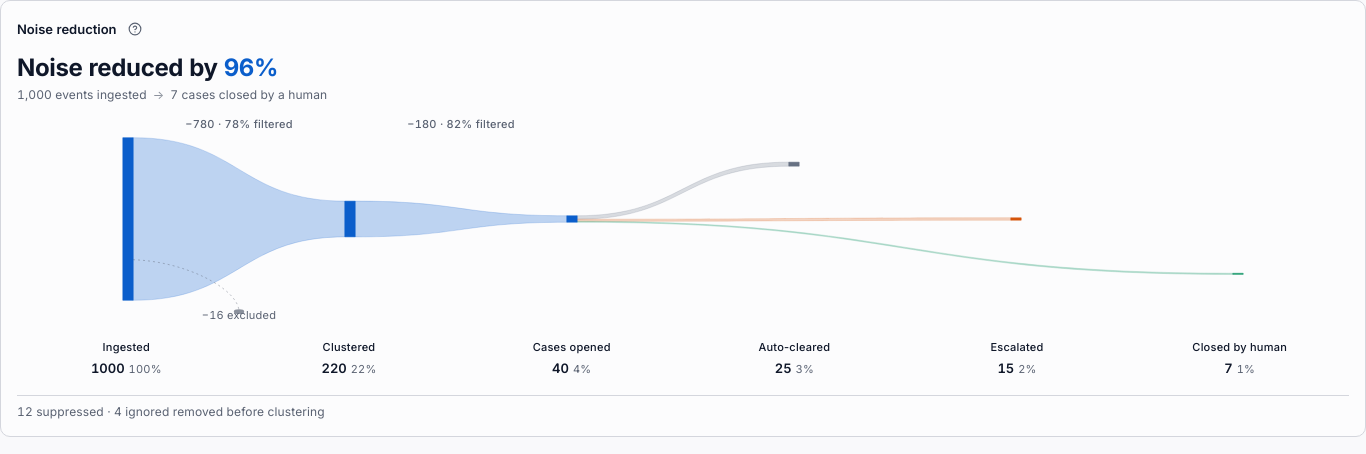
Test: NoiseFunnel › explains outcome authority and retention without mislabelling human closure as AI work
The width and height of the screenshot is (1366, 454).
Hover over the button with aria-label "Closed by human: 7 cases": (1240, 359) [1130,335,1349,383]
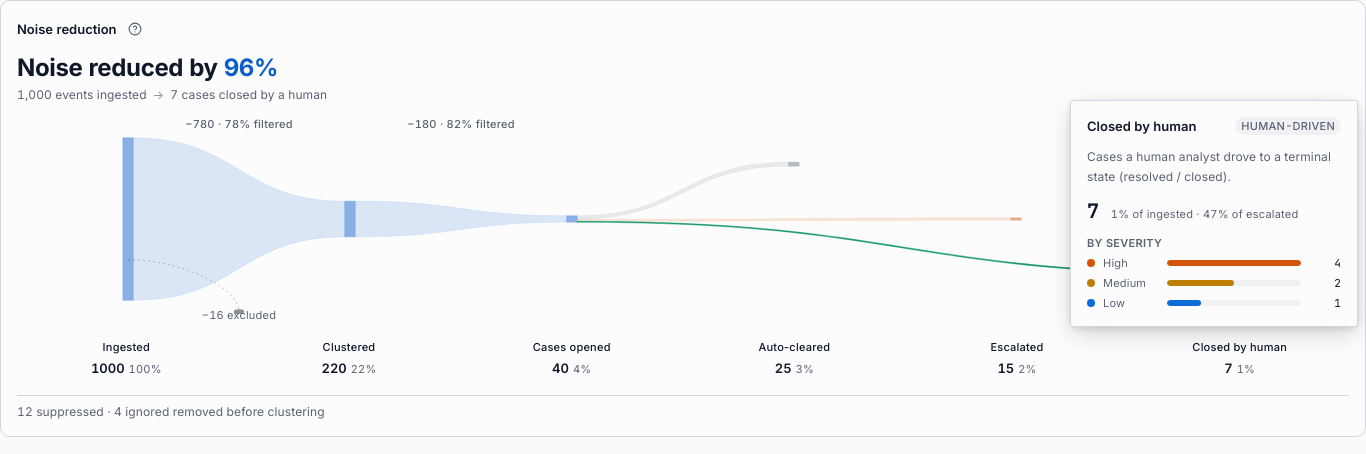
expect the text "Human-driven" is shown: met, box [1235,117,1341,135]
expect the text "1% of ingested · 47% of escalated" is shown: met, box [1111,207,1298,221]
Move the pointer off the button with aria-label "Closed by human:", box [1130,335,1349,383]
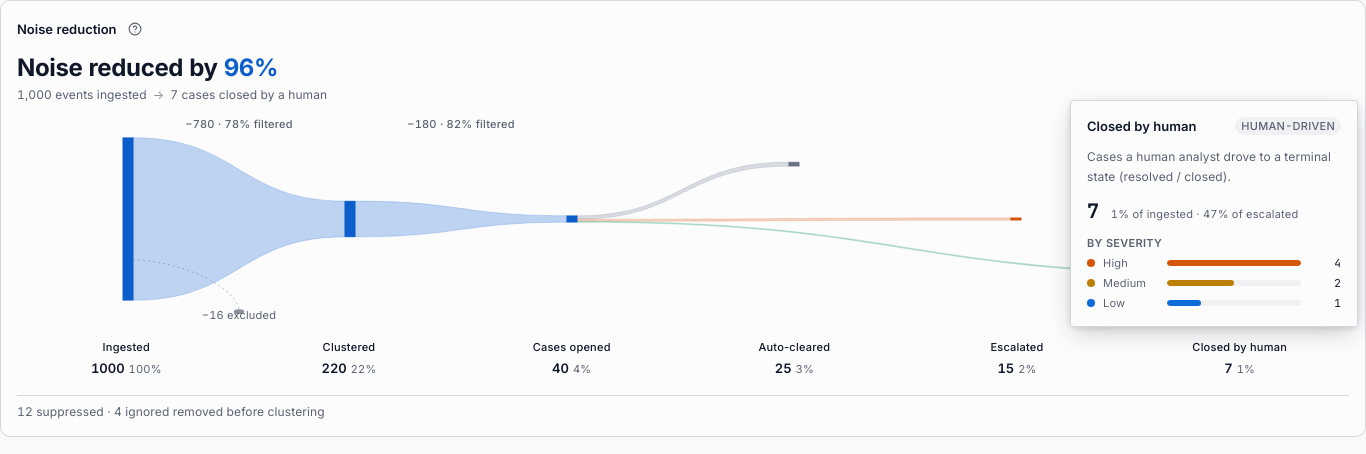
Hover over the button with aria-label "Cases opened: 40 cases": (572, 359) [462,335,681,383]
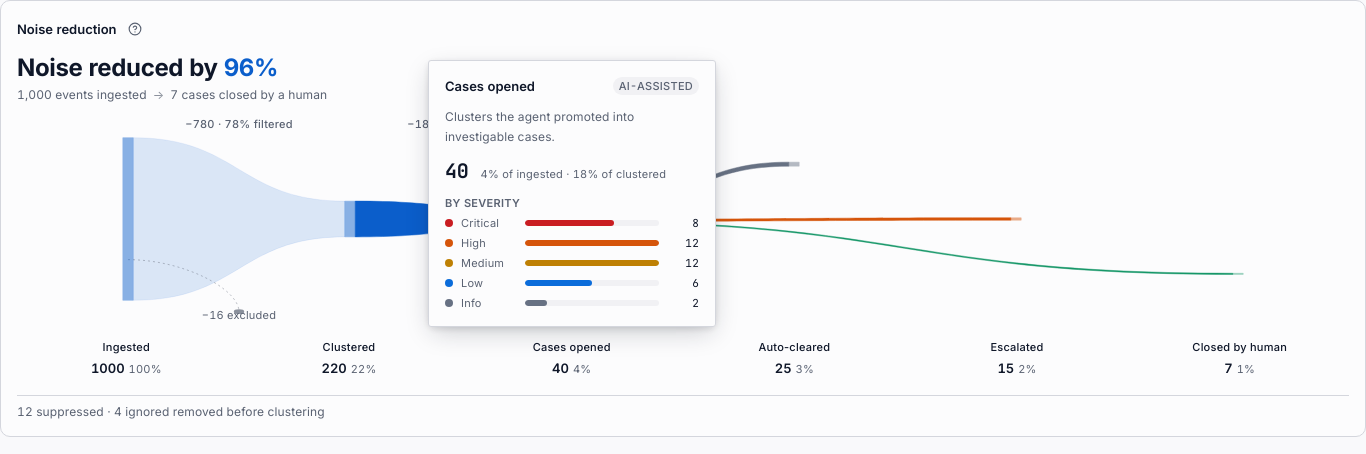
expect the text "AI-assisted" is shown: met, box [613,77,699,95]
